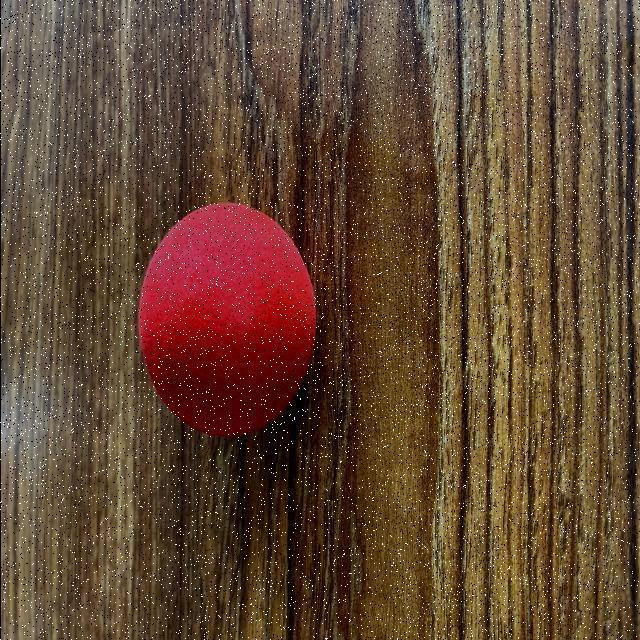ping-pong-ball: (138, 202, 316, 438)
